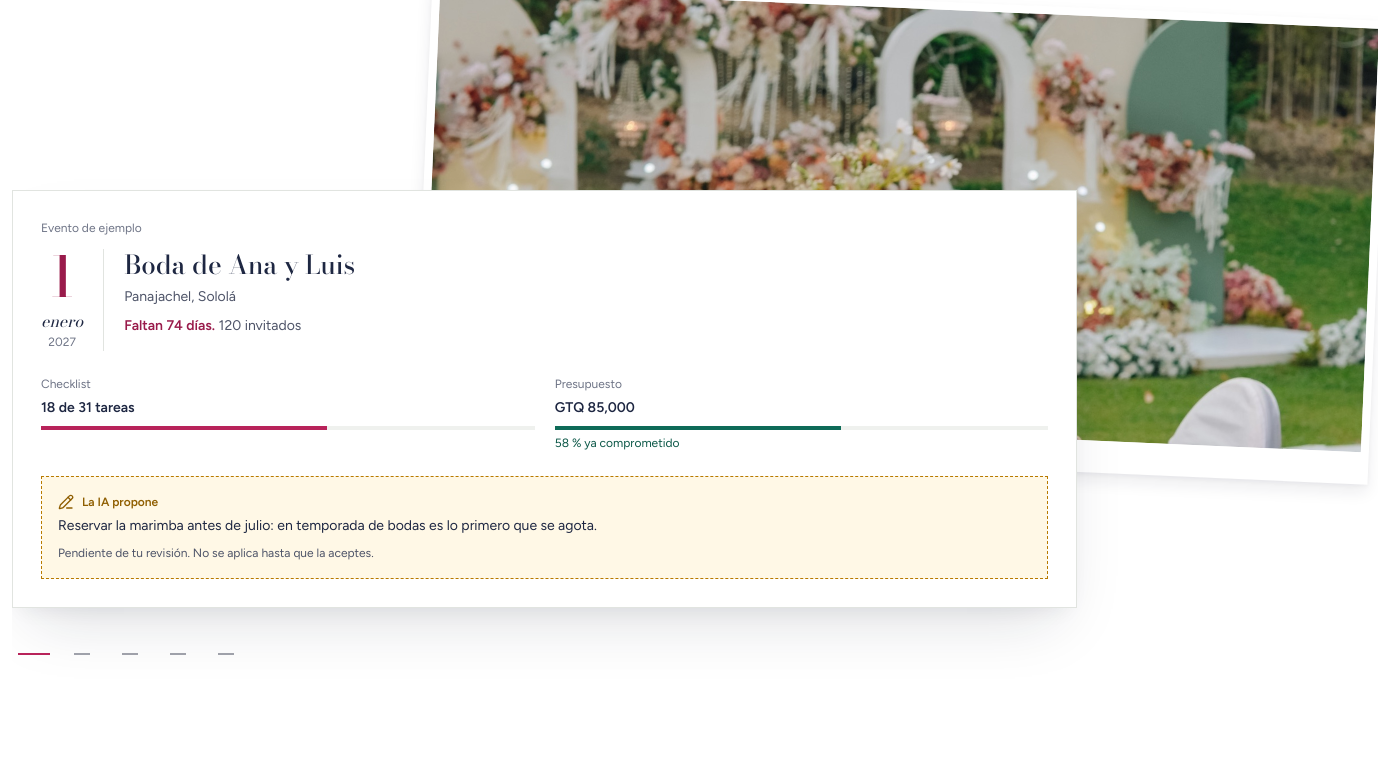
it: carrusel del hero — movimiento reducido › la paginación manual sigue funcionando con movimiento reducido
This screenshot has width=1378, height=768.
Click the button named "Ver ejemplo de evento corporativo": (226, 654) [204,632,248,676]
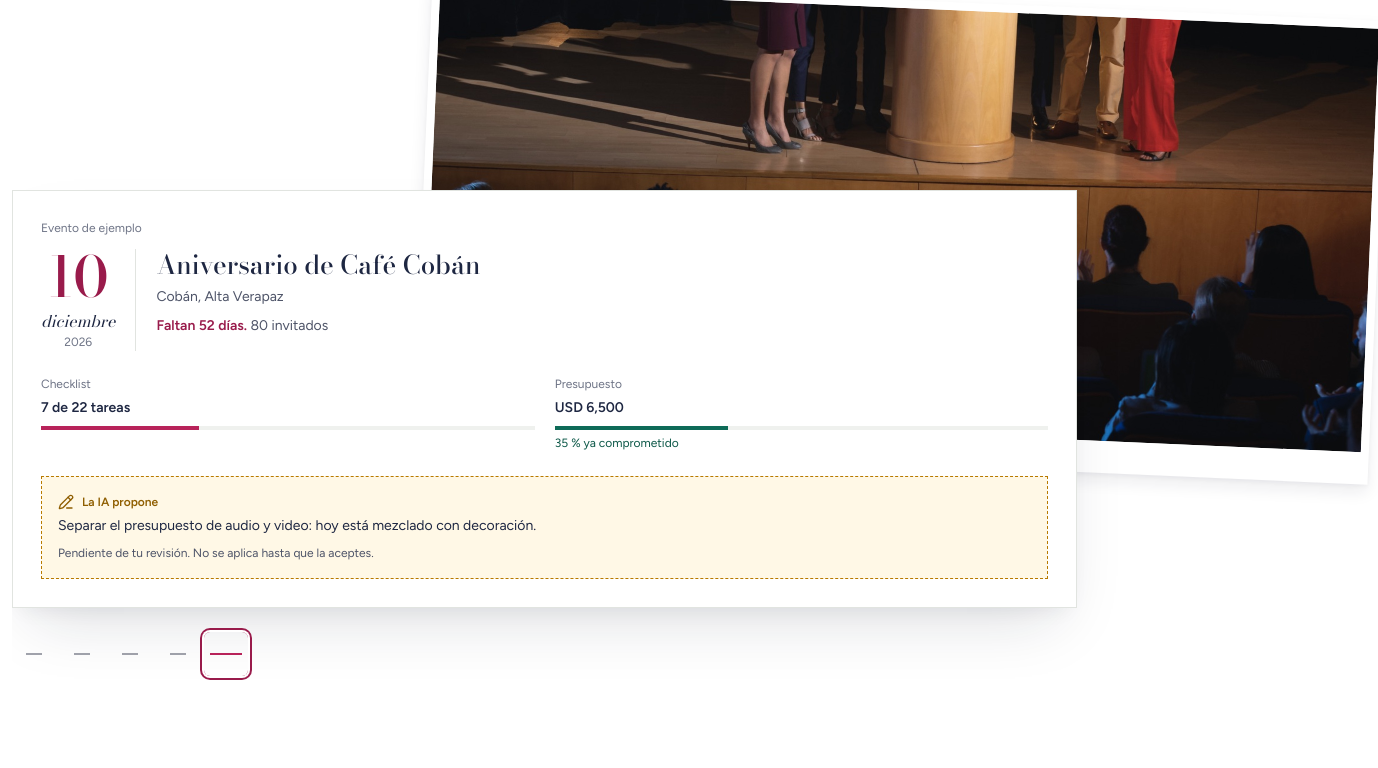
expect the element with test id "hero-carousel-card" shows "Aniversario de Café Cobán": met, box [156,245,480,284]
